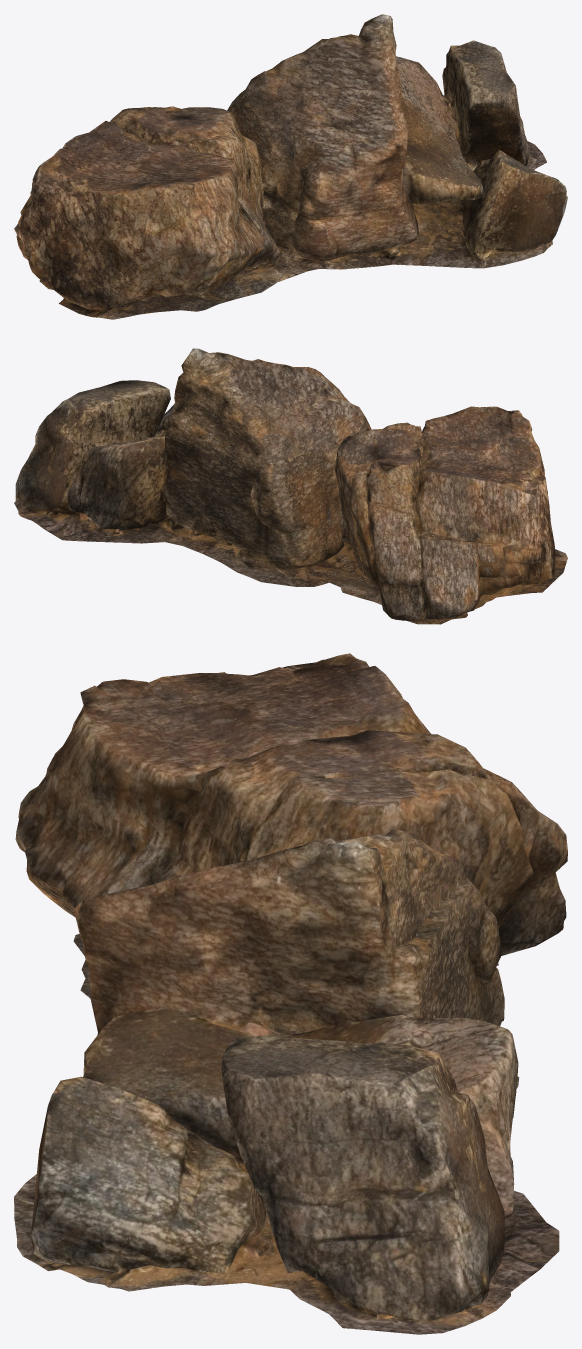
The model's file is acantilado_04.glb.
3 renders of one model, top to bottom at view 1: azimuth 30°, elevation 25°; view 2: azimuth 150°, elevation 25°; view 3: azimuth 270°, elevation 25°, orthographic. The views are drawn at different scales.
Parts seen in each view (by area): view 1: boulder_02; view 2: boulder_02; view 3: boulder_02.
Part boxes in pixels (x1=…): boulder_02: x1=14, y1=14, x2=567, y2=319; boulder_02: x1=14, y1=348, x2=567, y2=624; boulder_02: x1=14, y1=653, x2=567, y2=1334.
Size of the model in its own units: 3.6 by 1.26 by 1.75.
Materials: 1 (1 with a texture image).
